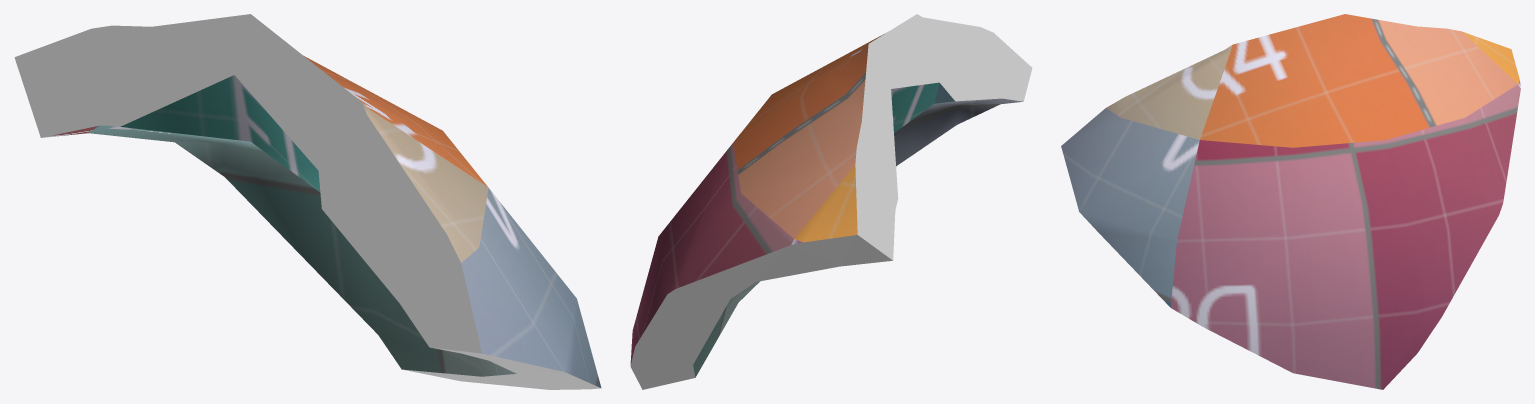
The model's file is LongVase_SHAT_cell_001.fbx.
3 renders of one model, left to right at view 1: azimuth 30°, elevation 25°; view 2: azimuth 150°, elevation 25°; view 3: azimuth 270°, elevation 25°, orthographic. The views are drawn at different scales.
Visible parts, largest first — view 1: LongVase_SHAT_cell_001; view 2: LongVase_SHAT_cell_001; view 3: LongVase_SHAT_cell_001.
Boxes of the visible parts, bbox=[...] form: LongVase_SHAT_cell_001: bbox=[14, 14, 601, 389]; LongVase_SHAT_cell_001: bbox=[630, 14, 1032, 389]; LongVase_SHAT_cell_001: bbox=[1061, 14, 1520, 389].
Size of the model in its own units: 0.4985 by 0.5604 by 0.7832.
2 materials, 1 textured.
